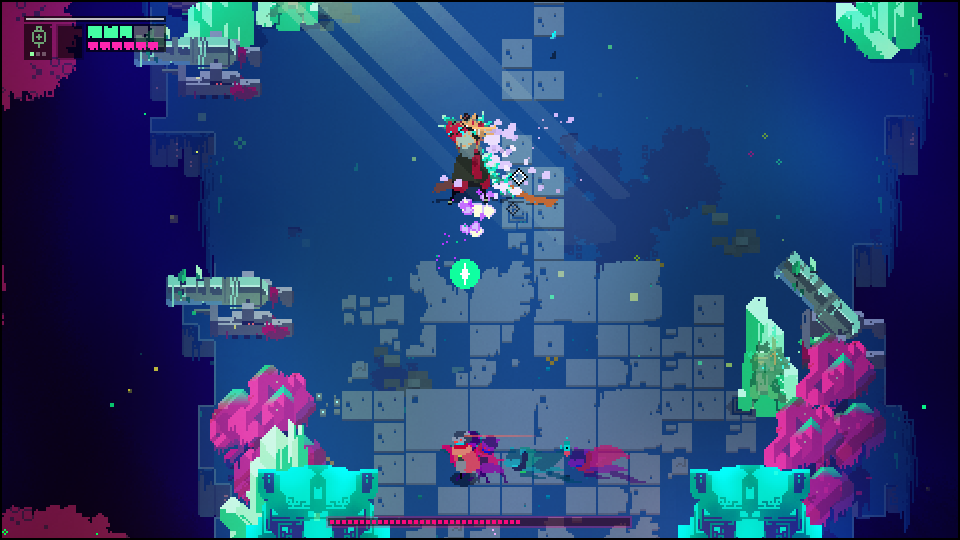hanged_man: (432, 106, 523, 207)
hanged_shot: (448, 258, 480, 290)
player: (449, 428, 479, 484)
